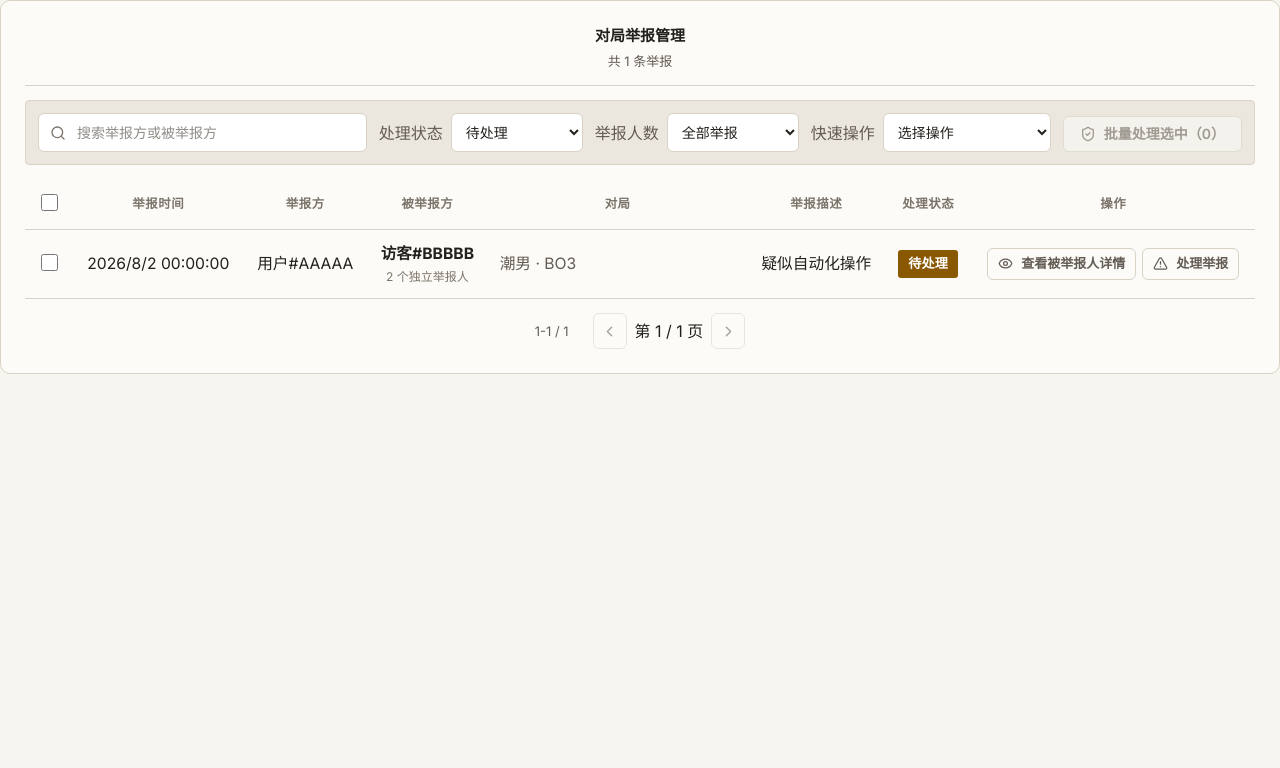
Test: AdminReports › lists pending reports and saves the processing result
Click the button "处理举报".
click(1191, 264)  # box [1142, 248, 1239, 280]
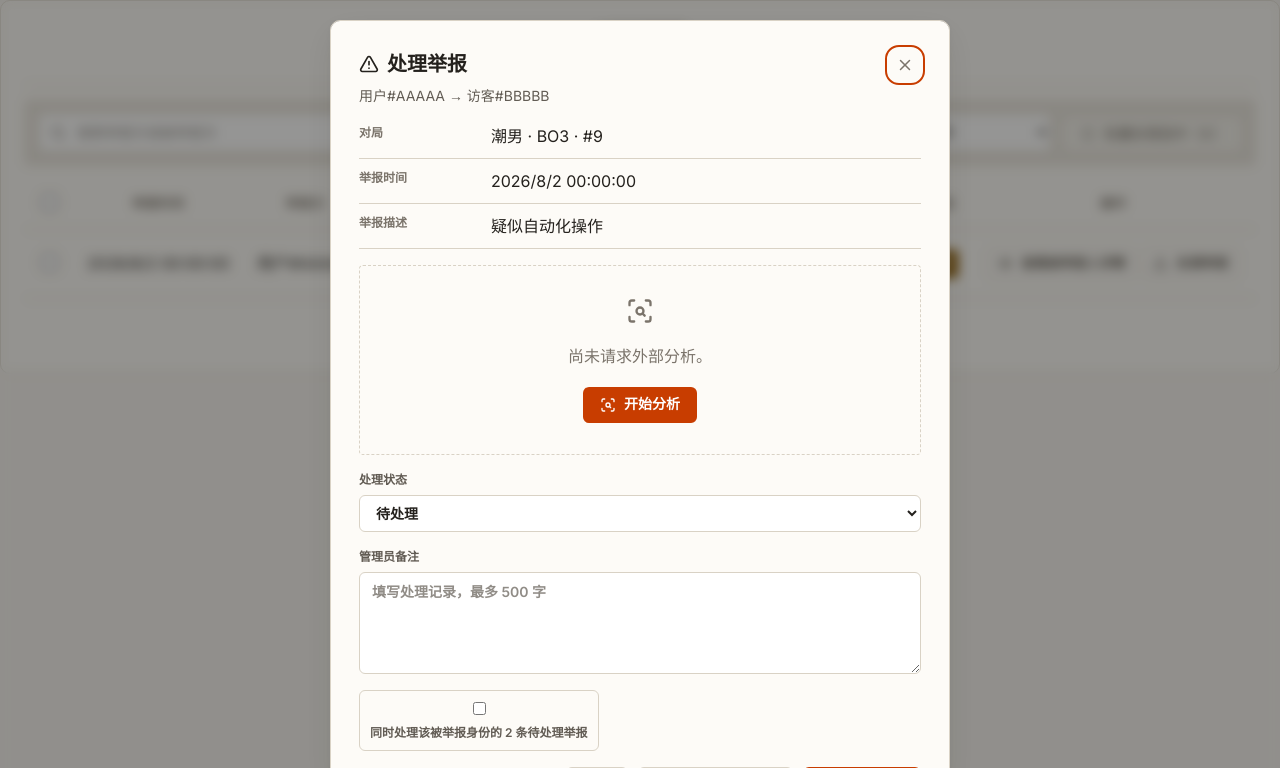
Select "已处理" in the dropdown labelled "处理状态" at (640, 514), box [359, 495, 921, 532]
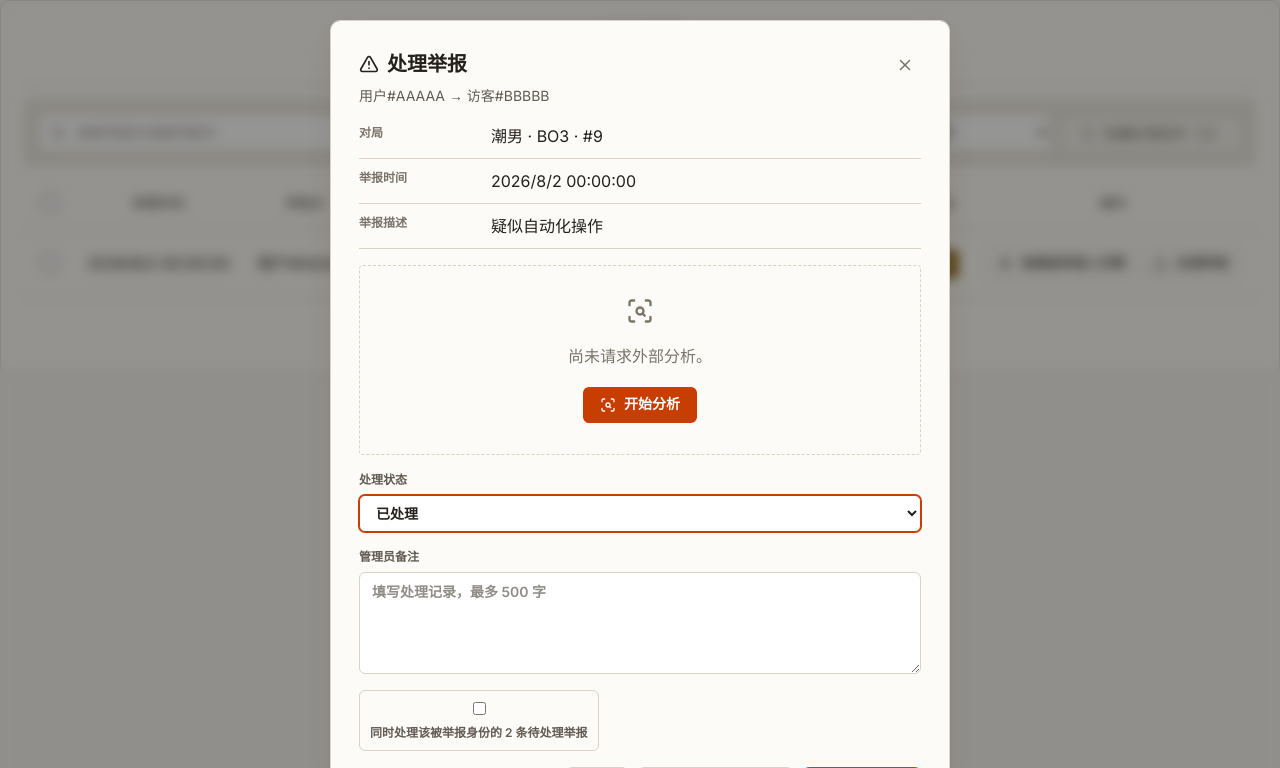
Type "已核查并处理" into the text box with placeholder "填写处理记录，最多 500 字".
click(640, 623); type("已核查并处理")  # box [359, 572, 921, 674]
(page scrolled)
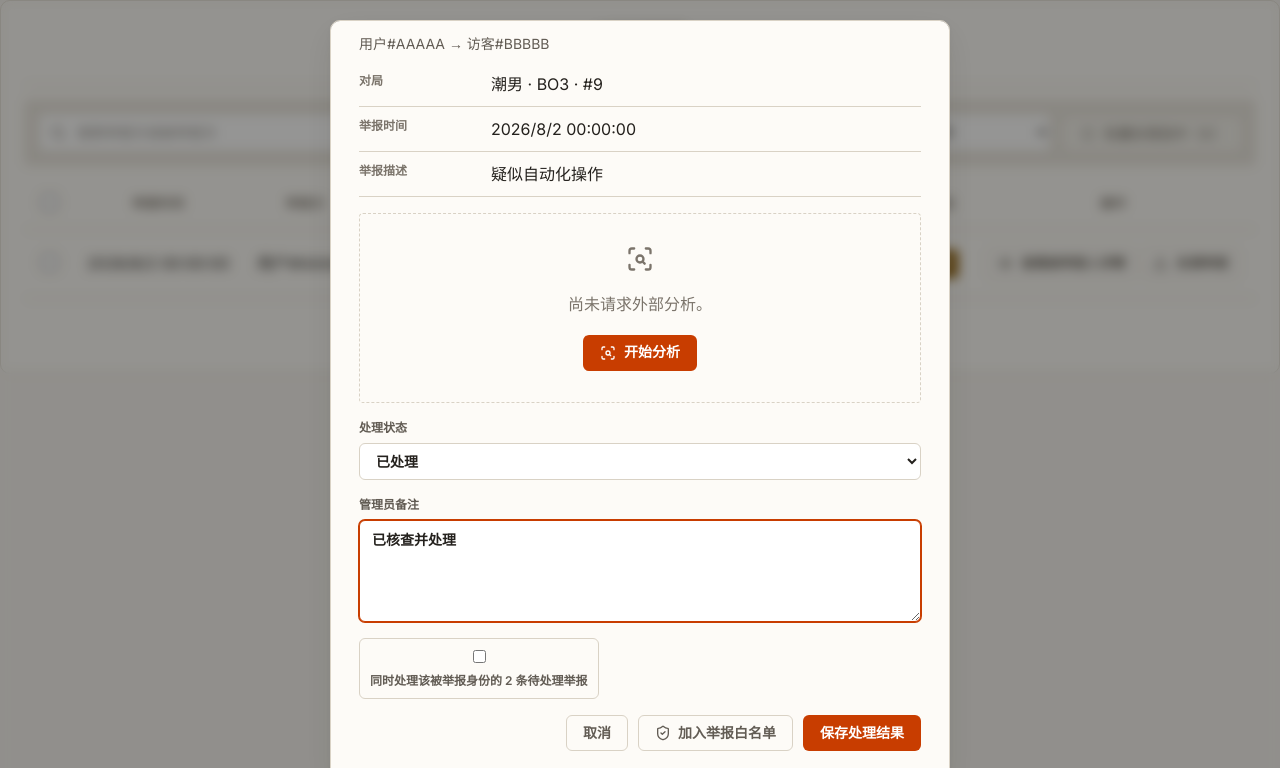
Click the button "保存处理结果".
click(862, 733)  # box [803, 715, 921, 751]
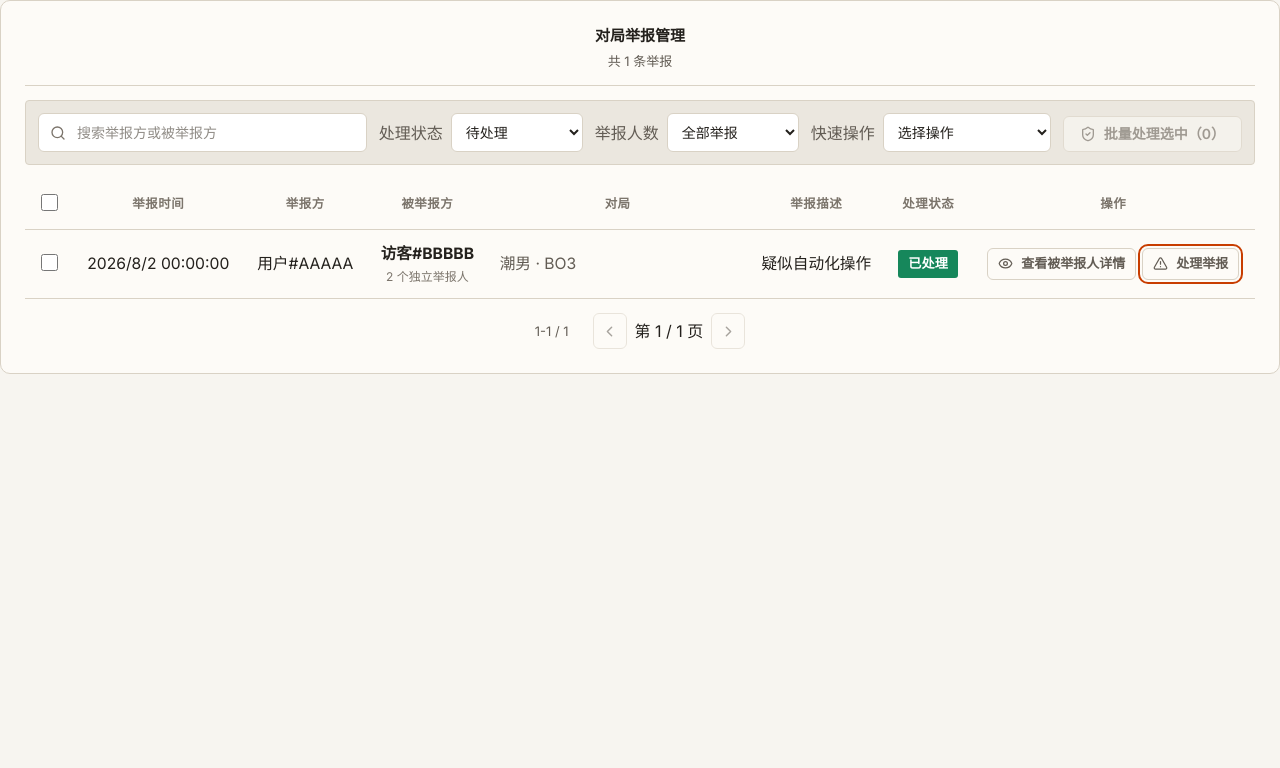
Now the text "已处理" is shown, box [898, 250, 958, 278]
